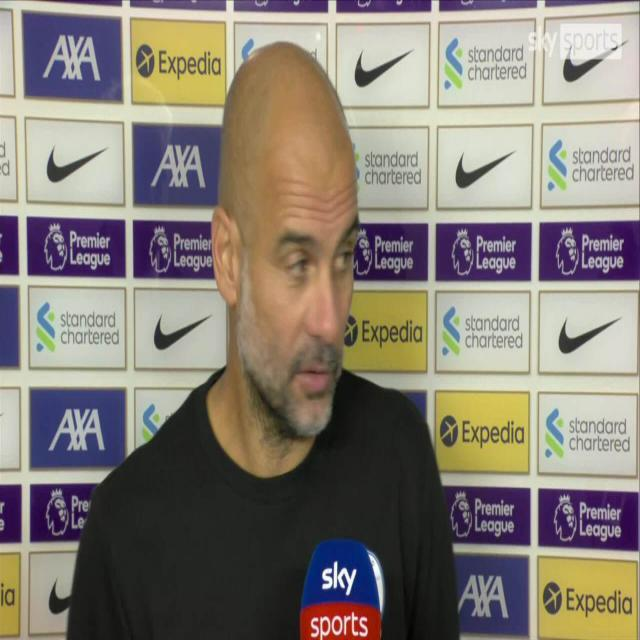Nike: (563, 38, 630, 84), (46, 143, 108, 184), (455, 150, 516, 190), (154, 311, 214, 351), (355, 48, 415, 88), (49, 576, 71, 616)
Standard Chartered: (547, 137, 634, 192), (545, 406, 631, 460), (444, 36, 526, 92), (36, 301, 120, 354), (442, 305, 524, 356), (364, 150, 422, 188), (142, 402, 160, 442)
